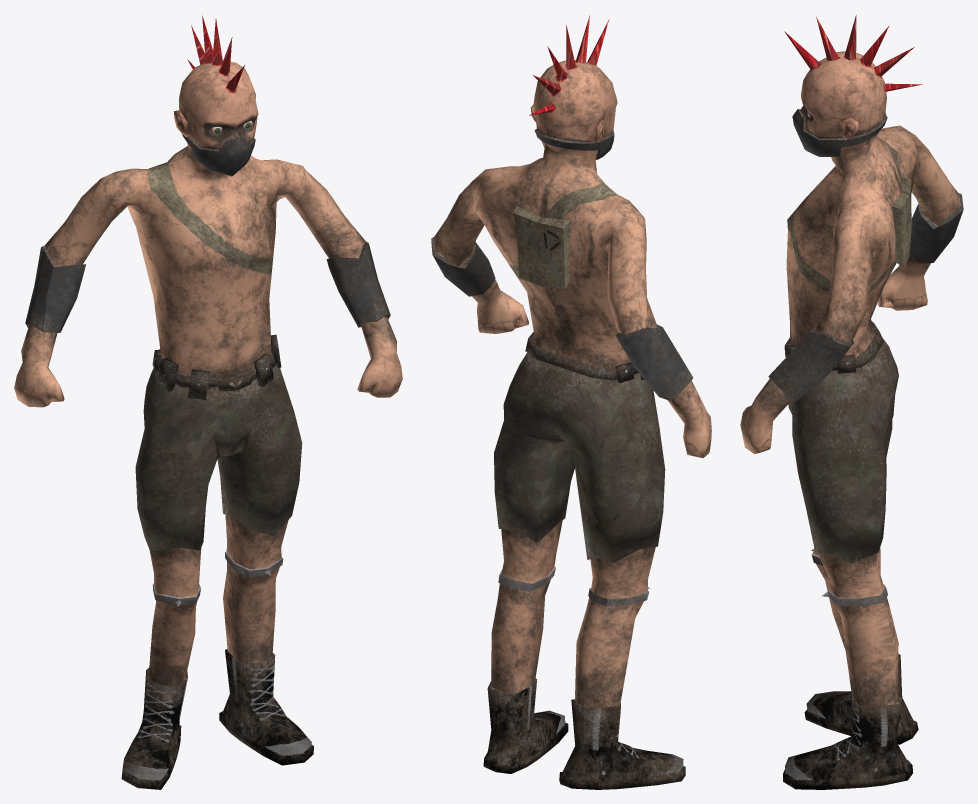
The model's file is Anim_arma_c_npc2.0016.obj.
The picture shows the model from 3 angles, left to right: view 1: azimuth 30°, elevation 25°; view 2: azimuth 150°, elevation 25°; view 3: azimuth 270°, elevation 25°; orthographic projection.
Visible parts, largest first — view 1: polySurface1; view 2: polySurface1; view 3: polySurface1.
Part boxes in pixels (left/top/right/bottom): polySurface1: left=14, top=15, right=402, bottom=789; polySurface1: left=431, top=15, right=711, bottom=789; polySurface1: left=740, top=15, right=963, bottom=789.
Bounding box in the file's own units: 4.55 × 10.18 × 2.77.
